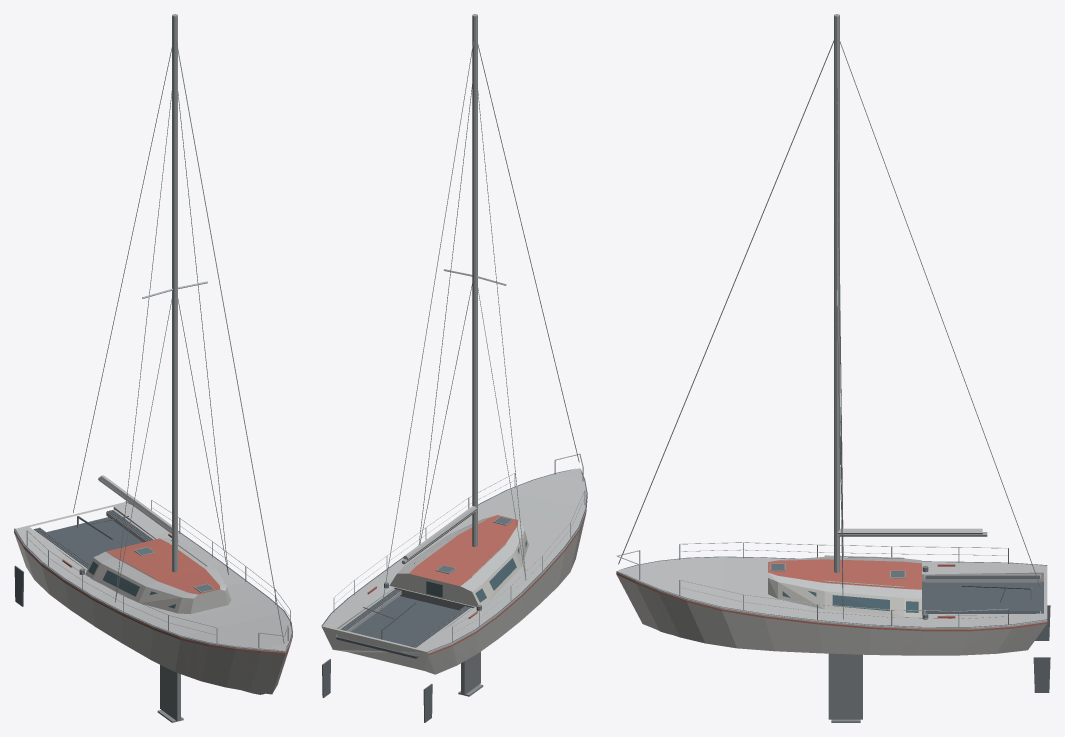
The model's file is kjp_pogo_40_s4.glb.
3 views of the same model, side by side, from view 1: azimuth 30°, elevation 25°; view 2: azimuth 150°, elevation 25°; view 3: azimuth 270°, elevation 25° (orthographic). The views are drawn at different scales.
Visible parts, largest first — view 1: Pogo 40 S4; view 2: Pogo 40 S4; view 3: Pogo 40 S4.
Part boxes in pixels (bbox=[...]): Pogo 40 S4: bbox=[14, 14, 292, 722]; Pogo 40 S4: bbox=[321, 14, 587, 722]; Pogo 40 S4: bbox=[616, 14, 1050, 722].
Bounding box in the file's own units: 4.42 × 22 × 12.28.
